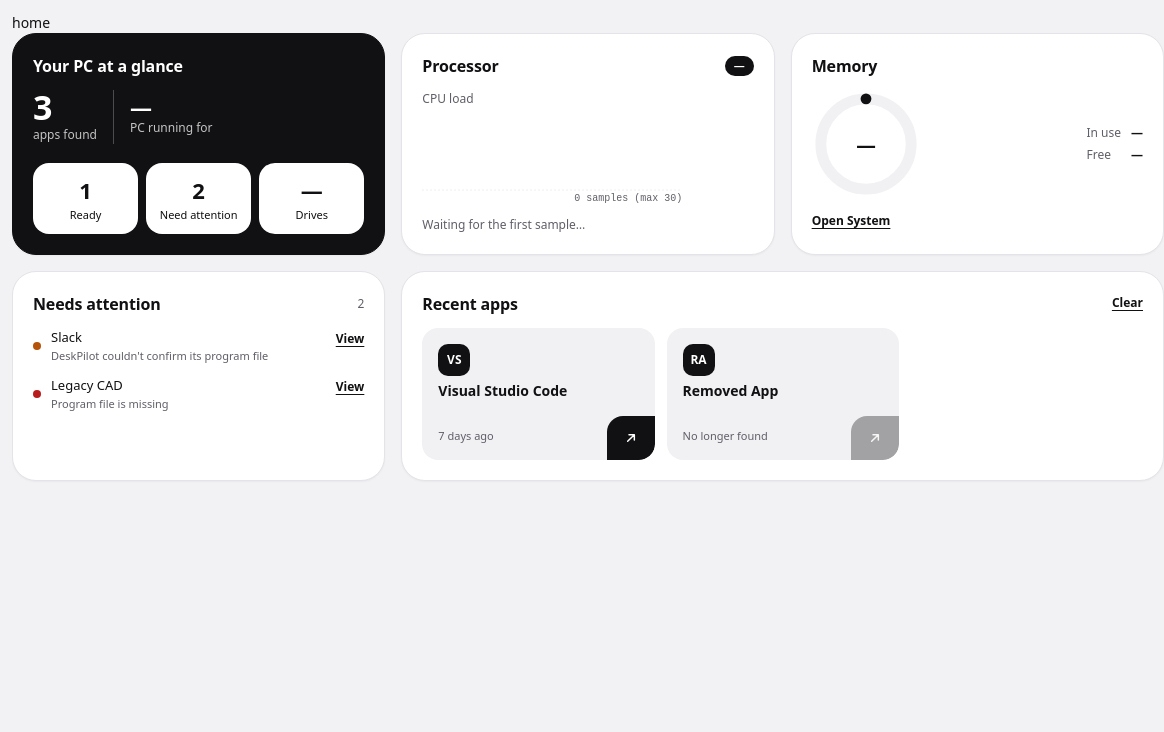
Test: Home view › clears history, and reports a failure to clear
Expected: the text "Removed App" is shown, [682,381,778,400]
Click the button with aria-label "Clear recent apps".
click(1127, 302)  # box [1112,292,1143,313]
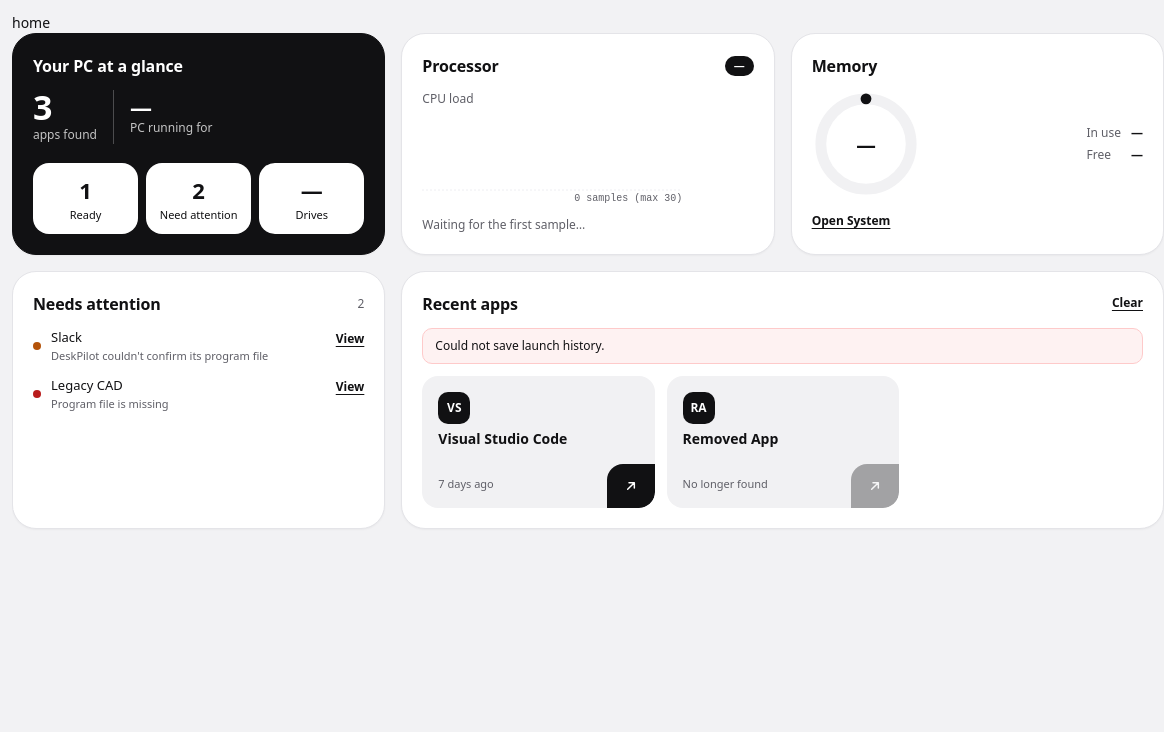
Expected: the text "Removed App" is shown, [682,429,778,448]
Result: the message reads "Could not save launch history." at [435,337,604,354]
Click the button with aria-label "Clear recent apps".
click(1127, 302)  # box [1112,292,1143,313]
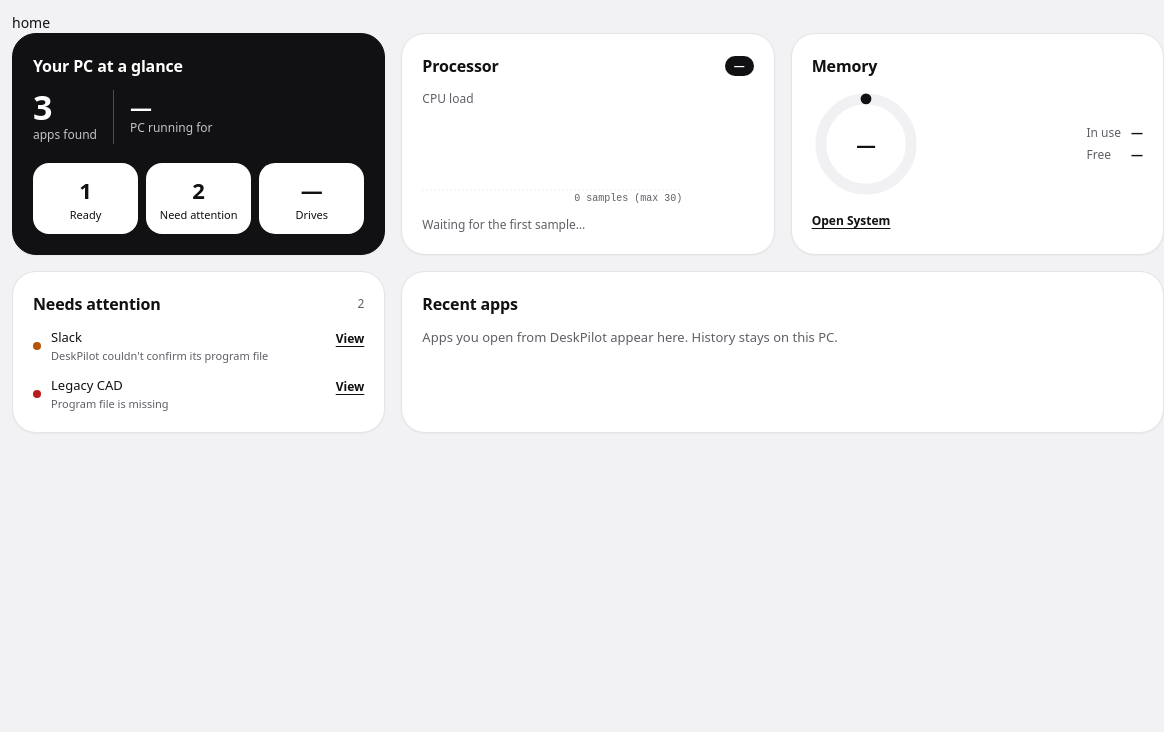
Result: the text "Removed App" is gone
Result: the message "Could not save launch history." is gone
